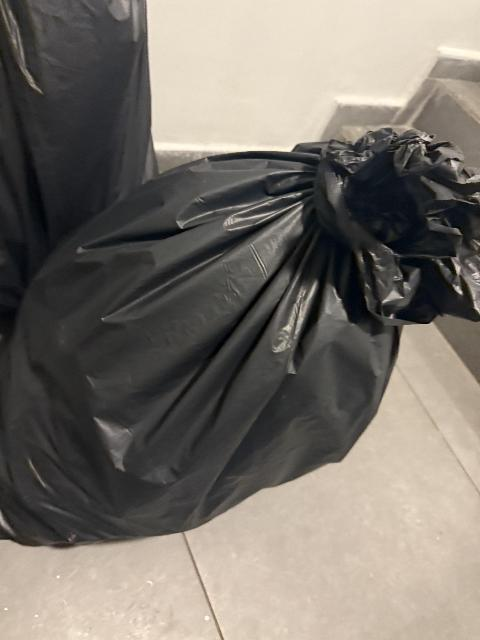Plastik: (0, 124, 477, 547), (0, 0, 158, 315)
